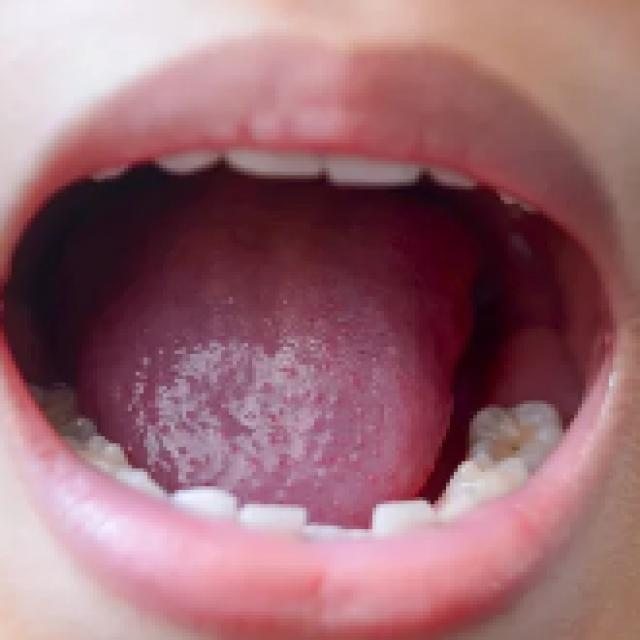No Cancer: (98, 220, 456, 475)
